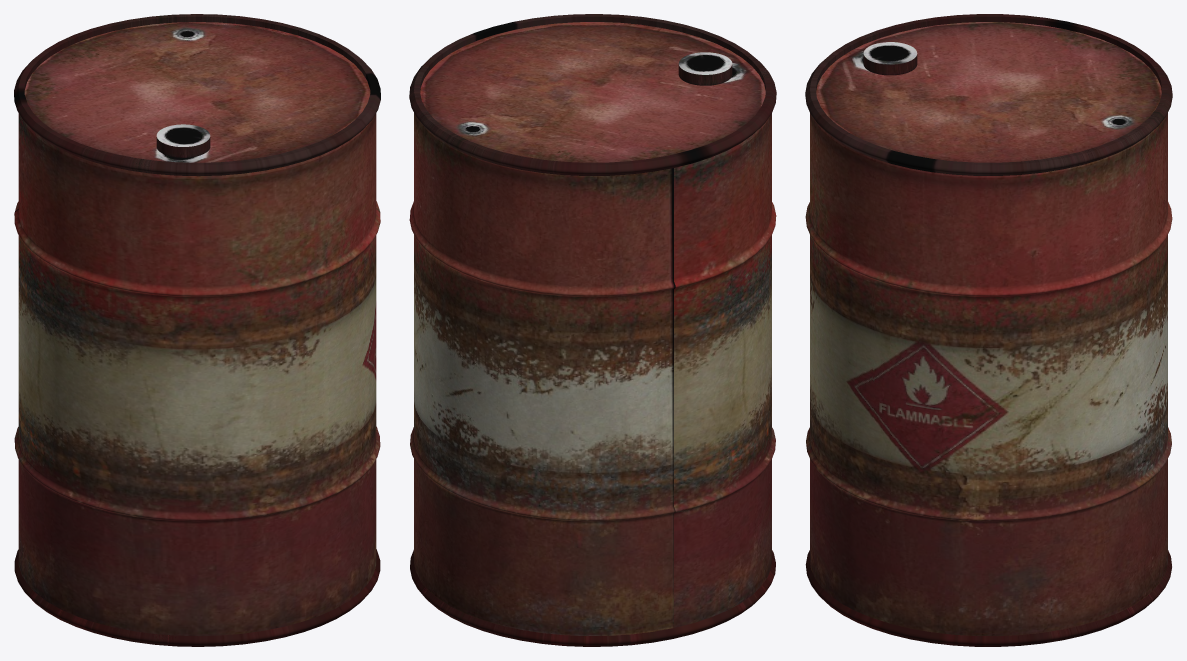
File: BarrilGame.fbx
3 views of the same model, side by side, from view 1: azimuth 30°, elevation 25°; view 2: azimuth 150°, elevation 25°; view 3: azimuth 270°, elevation 25° (orthographic).
Parts seen in each view (by area): view 1: Barrel; view 2: Barrel; view 3: Barrel.
Boxes of the visible parts, bbox=[...] form: Barrel: bbox=[14, 14, 380, 646]; Barrel: bbox=[409, 14, 776, 646]; Barrel: bbox=[805, 14, 1172, 646].
Bounding box in the file's own units: 61.47 × 90 × 61.54.
Materials: 1 (1 with a texture image).
